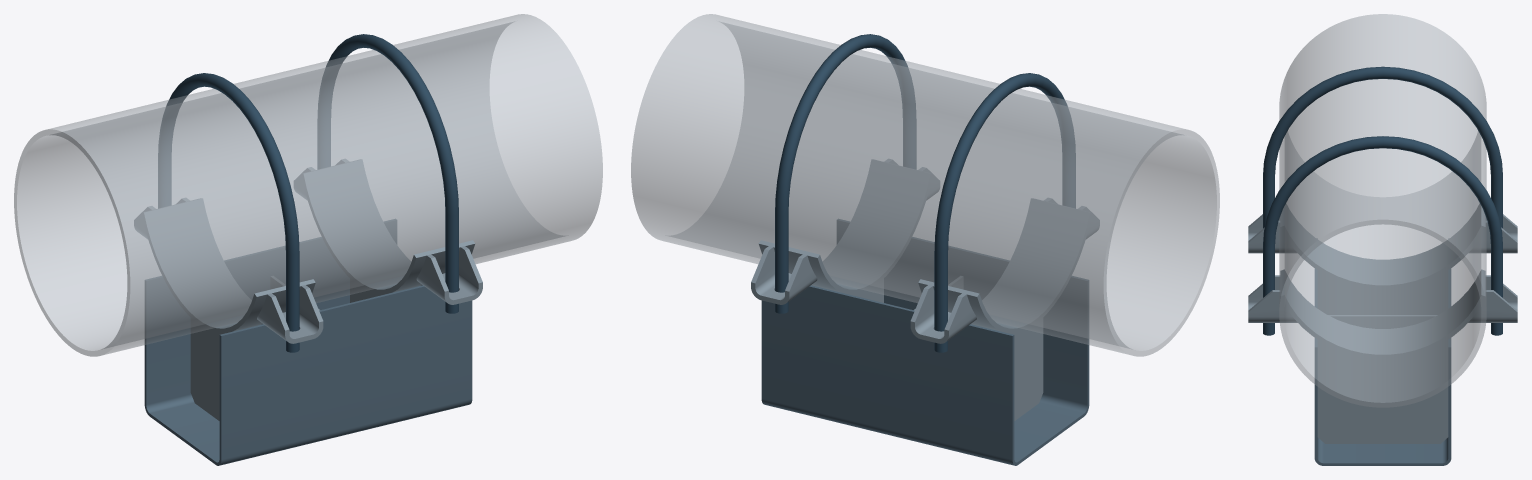
File: TS-626.00.000-043-opora-dn273-H150-L340.glb
The picture shows the model from 3 angles, left to right: view 1: azimuth 30°, elevation 25°; view 2: azimuth 150°, elevation 25°; view 3: azimuth 270°, elevation 25°; orthographic projection. The views are drawn at different scales.
Parts seen in each view (by area): view 1: truba, skoba_0, podushka_5, podushka_4, homut_0, homut_1, rebro4_1, ushko_7, ushko_9; view 2: truba, skoba_0, podushka_5, podushka_4, homut_0, homut_1, rebro4_1, ushko_6, ushko_8; view 3: truba, rebro4_2, podushka_5, podushka_4, homut_1, homut_0, skoba_0, rebro4_1, ushko_8, ushko_9, rebro5_3, ushko_6 (+1 smaller).
Boxes of the visible parts, x1,y1,x2,y2 form: truba: [14, 14, 602, 356]; skoba_0: [144, 219, 472, 465]; podushka_5: [301, 159, 475, 294]; podushka_4: [142, 198, 315, 333]; homut_0: [158, 73, 299, 352]; homut_1: [317, 34, 458, 313]; rebro4_1: [190, 318, 262, 420]; ushko_7: [257, 285, 323, 343]; ushko_9: [416, 246, 482, 304]; truba: [631, 14, 1219, 356]; skoba_0: [761, 219, 1089, 465]; podushka_5: [758, 159, 932, 294]; podushka_4: [918, 198, 1091, 333]; homut_0: [934, 73, 1075, 352]; homut_1: [775, 34, 916, 313]; rebro4_1: [971, 318, 1043, 420]; ushko_6: [910, 285, 976, 343]; ushko_8: [751, 246, 817, 304]; truba: [1279, 14, 1486, 407]; rebro4_2: [1317, 340, 1448, 443]; podushka_5: [1280, 269, 1485, 358]; podushka_4: [1280, 204, 1485, 289]; homut_1: [1263, 136, 1502, 335]; homut_0: [1263, 66, 1502, 228]; skoba_0: [1314, 268, 1451, 465]; rebro4_1: [1317, 270, 1448, 314]; ushko_8: [1468, 275, 1517, 322]; ushko_9: [1248, 275, 1297, 322]; rebro5_3: [1328, 315, 1437, 328]; ushko_6: [1469, 214, 1517, 253].
Bounding box in the file's own units: 640 × 449 × 354.
